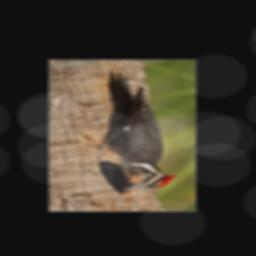Woodpecker: (85, 70, 179, 191)
